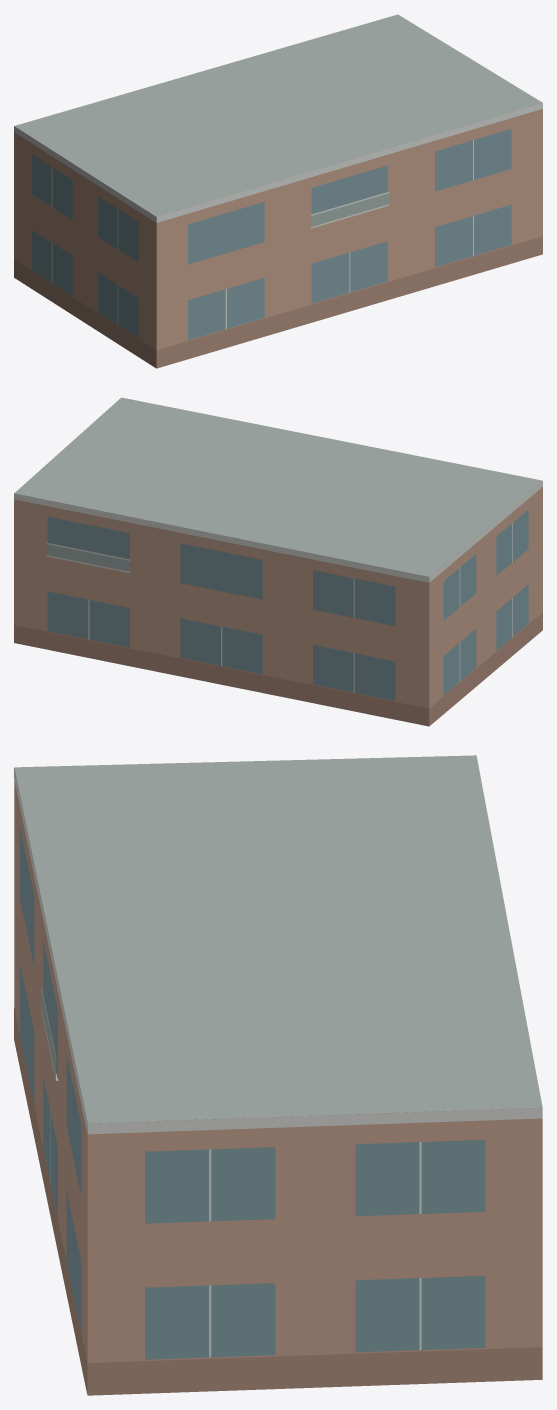
Rendered from survey-upis-32757131.glb.
The picture shows the model from 3 angles, top to bottom: view 1: azimuth 30°, elevation 25°; view 2: azimuth 150°, elevation 25°; view 3: azimuth 270°, elevation 25°; orthographic projection. The views are drawn at different scales.
Visible parts, largest first — view 1: survey-upis-32757131.tmp; view 2: survey-upis-32757131.tmp; view 3: survey-upis-32757131.tmp.
Boxes of the visible parts, left/top/right/bottom form: survey-upis-32757131.tmp: left=14, top=14, right=542, bottom=368; survey-upis-32757131.tmp: left=14, top=397, right=542, bottom=726; survey-upis-32757131.tmp: left=14, top=755, right=542, bottom=1395.
Bounding box in the file's own units: 17.71 × 6.1 × 10.75.
